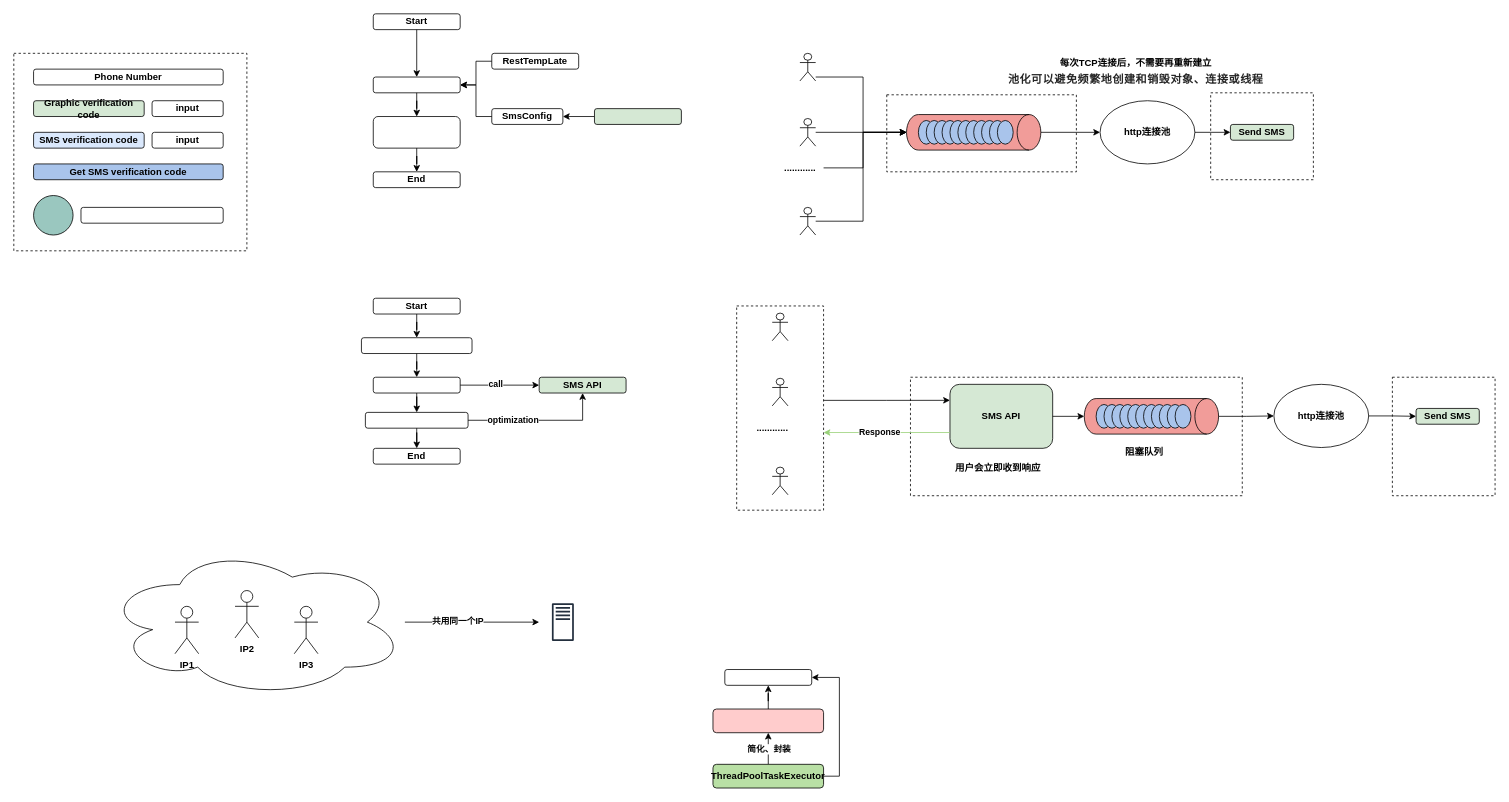
The diagram is 1509 pixels wide and 802 high, and some of its shapes have lost their labels. Here are the shapes that lost their labels. From the top down, the box of each, then its label:
(372, 76, 460, 93): SmsComponent
(372, 116, 460, 148): send verification code
(594, 108, 681, 124): application.yaml
(33, 195, 73, 235): avatar
(80, 207, 223, 223): Sign up
(361, 337, 472, 354): Create Threads Group
(372, 376, 460, 393): Add sample
(365, 412, 468, 428): Add Aggregate Report
(538, 598, 587, 646): Traditional server
(724, 669, 812, 685): Executor
(712, 708, 824, 733): ThreadPoolExecutor
